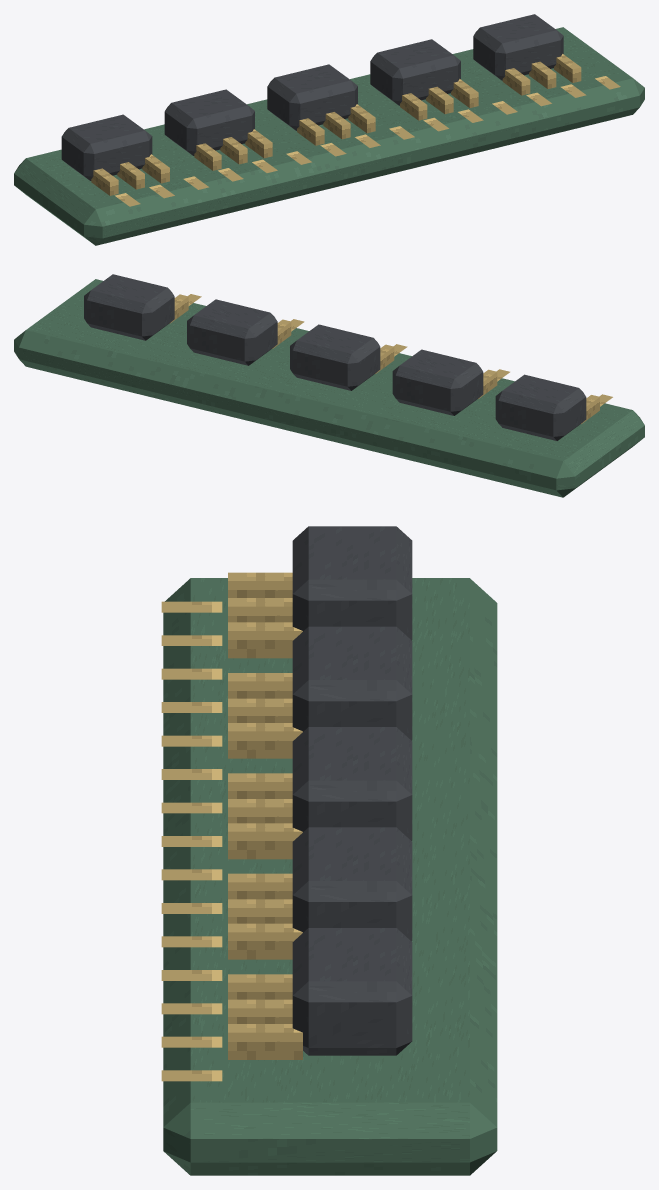
The model's file is RAM.glb.
3 renders of one model, top to bottom at view 1: azimuth 30°, elevation 25°; view 2: azimuth 150°, elevation 25°; view 3: azimuth 270°, elevation 25°, orthographic. The views are drawn at different scales.
Parts seen in each view (by area): view 1: block_circuit substrate, block_integrated component (×5), block_circuit pin (×15); view 2: block_circuit substrate, block_integrated component (×5); view 3: block_circuit substrate, block_integrated component (×5), block_circuit pin (×15).
Boxes of the visible parts, x1,y1,x2,y2 form: block_circuit substrate: (14, 27, 644, 245); block_integrated component (×5): (61, 14, 563, 180); block_circuit pin (×15): (91, 54, 581, 195); block_circuit substrate: (14, 279, 644, 497); block_integrated component (×5): (84, 274, 586, 440); block_circuit substrate: (163, 578, 497, 1175); block_integrated component (×5): (292, 526, 412, 1055); block_circuit pin (×15): (228, 572, 302, 1059).
Bounding box in the file's own units: 0.0493 × 0.00624 × 0.0128.
1 material, 1 textured.
